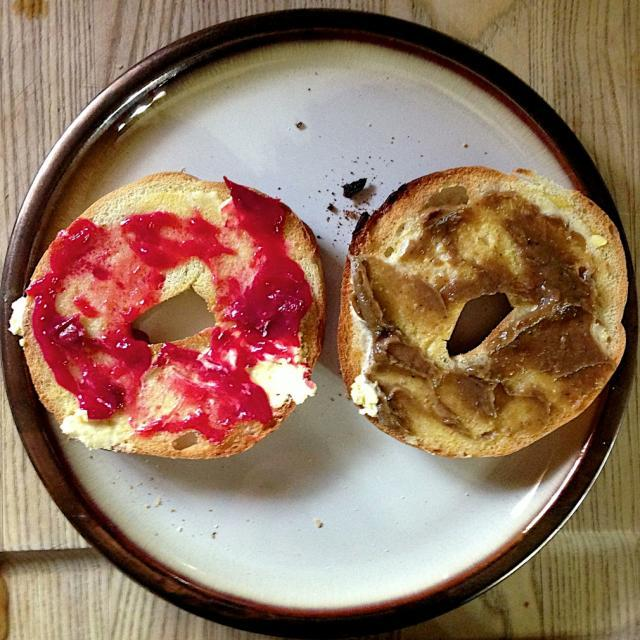Bagel: (8, 170, 324, 459), (334, 165, 632, 462)
